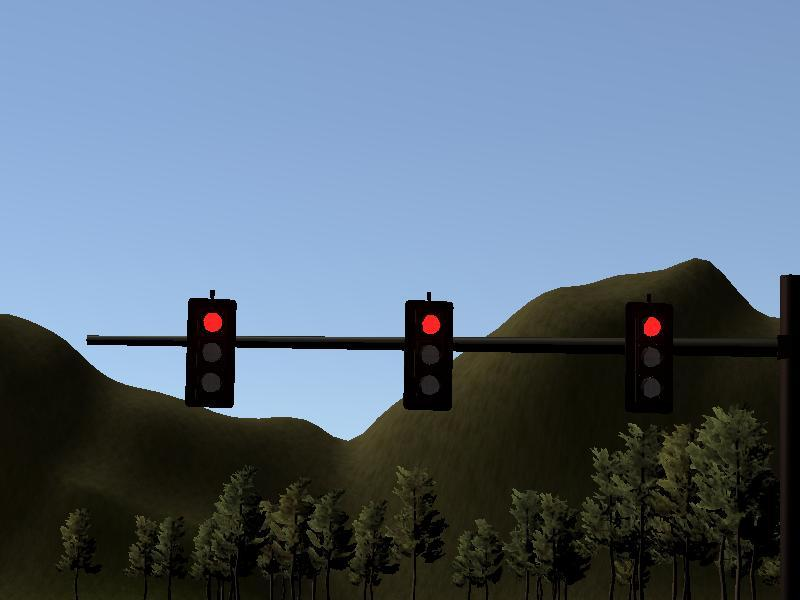Red: (627, 302, 678, 401), (405, 302, 452, 406), (190, 299, 235, 407)
